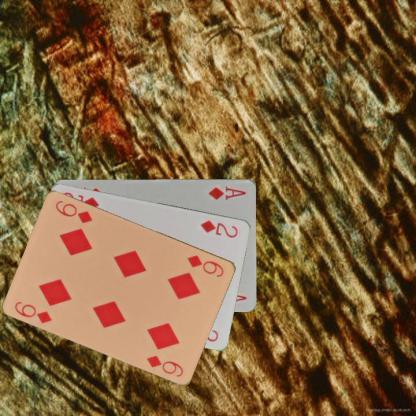2d: (198, 217, 239, 239)
6d: (12, 298, 53, 325), (184, 252, 226, 278)
Ad: (206, 183, 247, 201)
